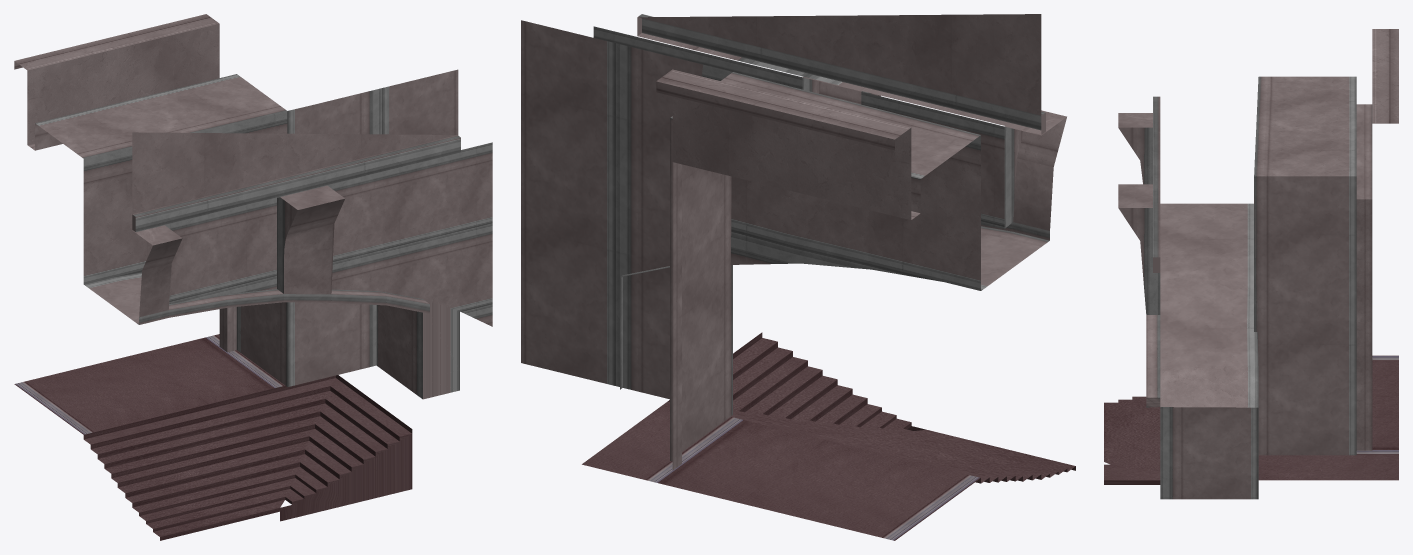
The model's file is Cor1_bldg_Grand_hall_mainstair.fbx.
3 renders of one model, left to right at view 1: azimuth 30°, elevation 25°; view 2: azimuth 150°, elevation 25°; view 3: azimuth 270°, elevation 25°, orthographic. The views are drawn at different scales.
Parts seen in each view (by area): view 1: polymsh_detached108, main_stair_3, polymsh_detached109, polymsh_detached104; view 2: polymsh_detached109, main_stair_3, polymsh_detached108, polymsh_detached104; view 3: polymsh_detached109, polymsh_detached108, main_stair_3, polymsh_detached104.
Part boxes in pixels (<box>): polymsh_detached108: <box>83,108,492,399</box>; main_stair_3: <box>14,334,412,540</box>; polymsh_detached109: <box>14,14,458,386</box>; polymsh_detached104: <box>132,132,460,231</box>; polymsh_detached109: <box>521,20,980,470</box>; main_stair_3: <box>582,332,1075,540</box>; polymsh_detached108: <box>593,26,1066,389</box>; polymsh_detached104: <box>637,14,1045,134</box>; polymsh_detached109: <box>1254,29,1398,455</box>; polymsh_detached108: <box>1118,113,1258,499</box>; main_stair_3: <box>1104,355,1398,484</box>; polymsh_detached104: <box>1153,96,1160,272</box>.
Size of what is drawn, in the model's own units: 3100 by 3165 by 2100.
